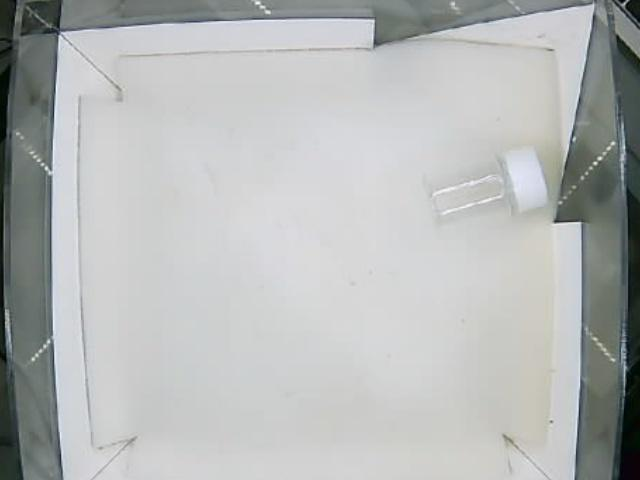Bottle: (425, 147, 554, 234)
